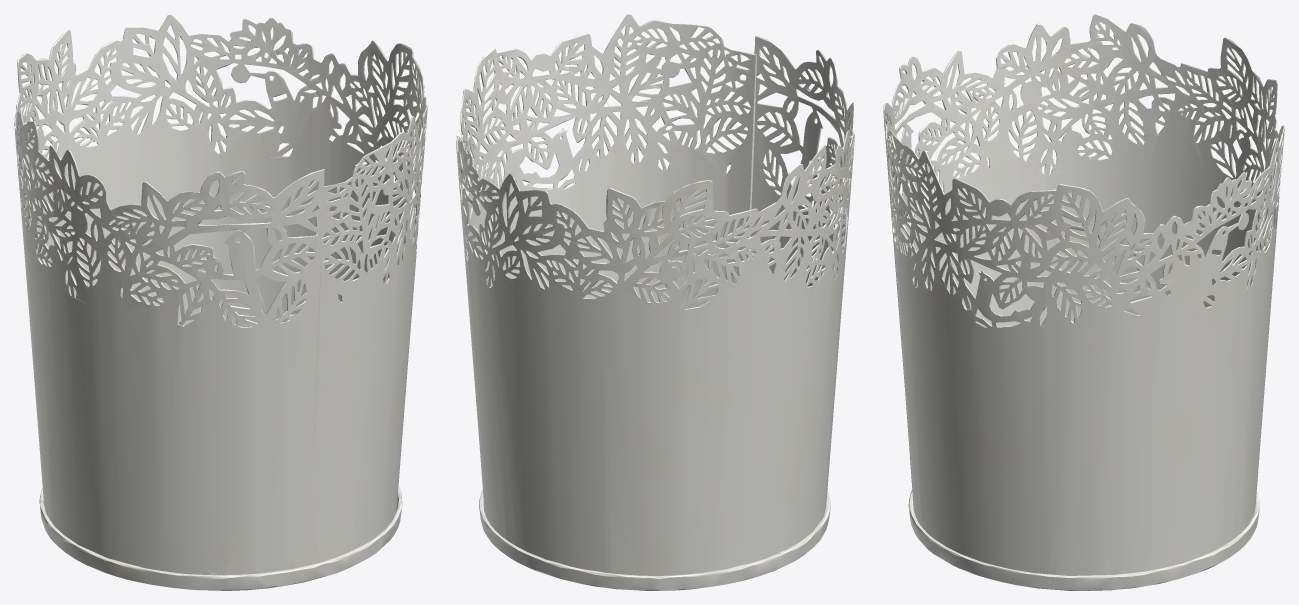
File: 30 - SAMVERKA - 花盆，白色，9 公分 IKEA 線上購物.glb
3 renders of one model, left to right at view 1: azimuth 30°, elevation 25°; view 2: azimuth 150°, elevation 25°; view 3: azimuth 270°, elevation 25°, orthographic. The views are drawn at different scales.
Visible parts, largest first — view 1: ProcessedMeshNode; view 2: ProcessedMeshNode; view 3: ProcessedMeshNode.
Part boxes in pixels (x1,y1,x2,y2): ProcessedMeshNode: (14,14,427,590); ProcessedMeshNode: (456,14,854,590); ProcessedMeshNode: (883,14,1284,590).
Bounding box in the file's own units: 0.0994 × 0.1139 × 0.0988.
1 material, 1 textured.
